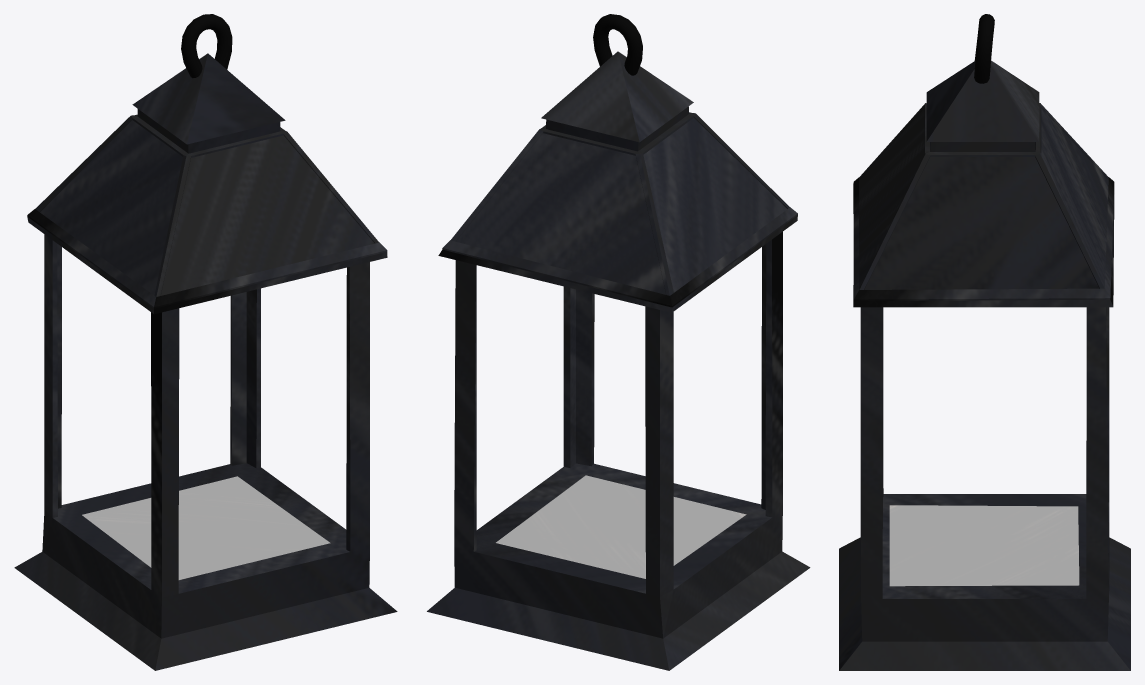
Rendered from lamparina.glb.
3 renders of one model, left to right at view 1: azimuth 30°, elevation 25°; view 2: azimuth 150°, elevation 25°; view 3: azimuth 270°, elevation 25°, orthographic. The views are drawn at different scales.
Parts seen in each view (by area): view 1: Plane, BézierCurve; view 2: Plane, BézierCurve; view 3: Plane, BézierCurve.
Boxes of the visible parts, x1,y1,x2,y2 form: Plane: [14, 53, 397, 670]; BézierCurve: [181, 14, 232, 78]; Plane: [427, 51, 810, 670]; BézierCurve: [593, 14, 642, 75]; Plane: [839, 60, 1130, 670]; BézierCurve: [974, 14, 994, 83].
Size of the model in its own units: 1.93 by 4.36 by 1.94.
2 materials, 1 textured.
